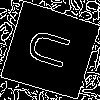U: (25, 26, 80, 74)
